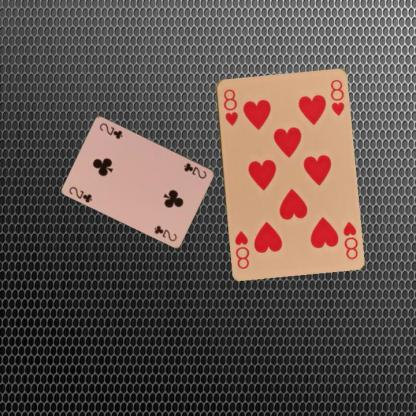2c: (66, 184, 94, 204), (181, 160, 208, 180)
8h: (340, 218, 359, 260), (221, 86, 239, 127)
